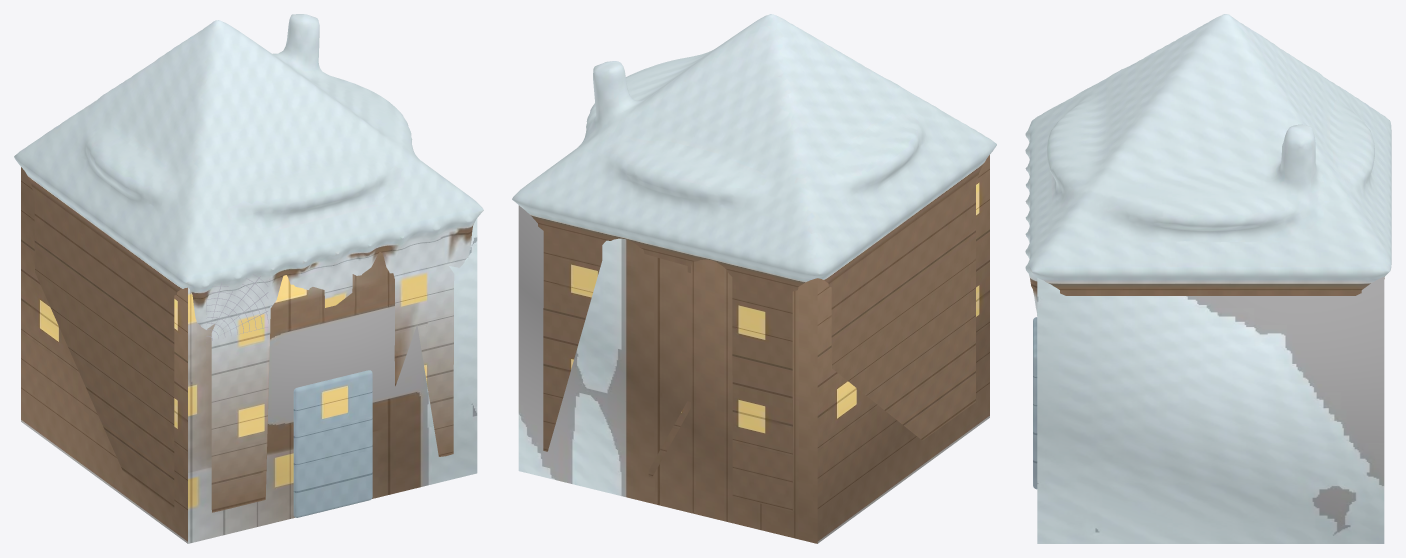
The model's file is house_frosty.glb.
3 renders of one model, left to right at view 1: azimuth 30°, elevation 25°; view 2: azimuth 150°, elevation 25°; view 3: azimuth 270°, elevation 25°, orthographic. The views are drawn at different scales.
Parts seen in each view (by area): view 1: lod0, col, door, cobweb; view 2: lod0, col; view 3: col, lod0, door.
Boxes of the visible parts, left/top/right/bottom form: lod0: left=14, top=14, right=483, bottom=512; col: left=21, top=167, right=477, bottom=543; door: left=293, top=370, right=372, bottom=517; cobweb: left=206, top=274, right=268, bottom=340; lod0: left=512, top=14, right=996, bottom=511; col: left=518, top=155, right=989, bottom=543; col: left=1037, top=276, right=1384, bottom=543; lod0: left=1025, top=14, right=1391, bottom=315; door: left=1033, top=317, right=1037, bottom=489.
Size of what is drawn, in the model's own units: 7.28 by 9.87 by 7.38.
2 materials, 2 textured.
